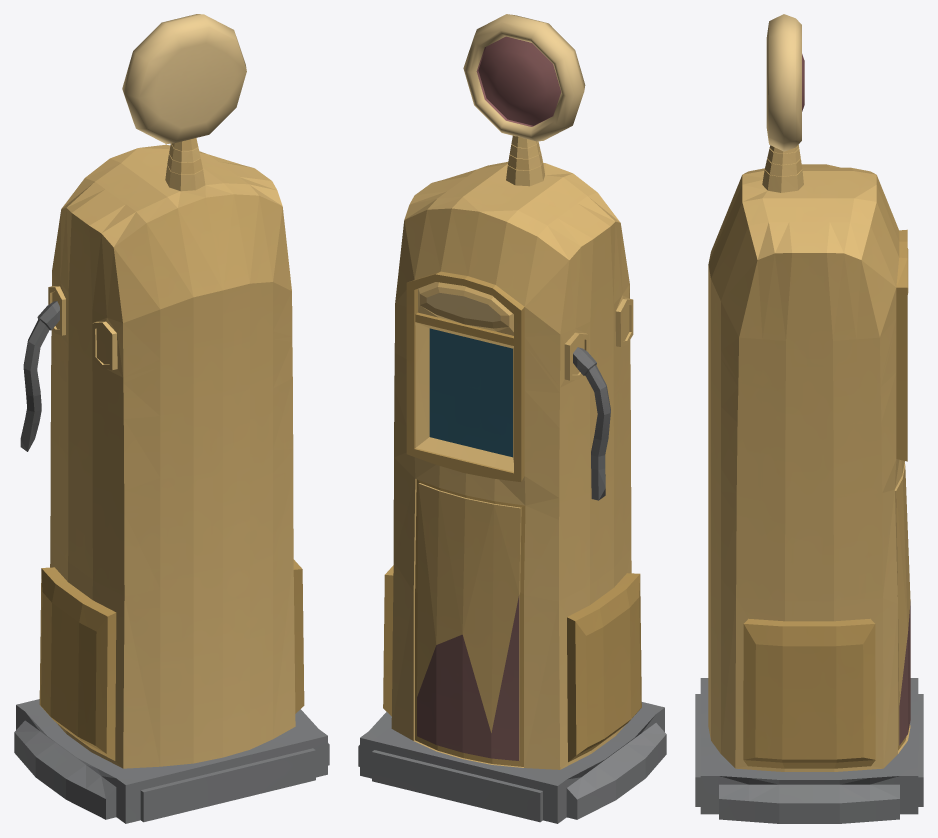
Rendered from gas_pump_B.obj.
3 renders of one model, left to right at view 1: azimuth 30°, elevation 25°; view 2: azimuth 150°, elevation 25°; view 3: azimuth 270°, elevation 25°, orthographic. The views are drawn at different scales.
Visible parts, largest first — view 1: gas_pump_B_body_Mesh, gas_pump_B_head_Mesh, gas_pump_B_hose_Mesh; view 2: gas_pump_B_body_Mesh, gas_pump_B_head_Mesh, gas_pump_B_hose_Mesh; view 3: gas_pump_B_body_Mesh, gas_pump_B_head_Mesh.
Boxes of the visible parts, x1,y1,x2,y2 form: gas_pump_B_body_Mesh: (14,138,329,823); gas_pump_B_head_Mesh: (122,14,246,144); gas_pump_B_hose_Mesh: (20,301,59,451); gas_pump_B_body_Mesh: (358,135,666,823); gas_pump_B_head_Mesh: (463,14,585,141); gas_pump_B_hose_Mesh: (573,347,610,500); gas_pump_B_body_Mesh: (695,145,923,823); gas_pump_B_head_Mesh: (766,14,804,151).
Bounding box in the file's own units: 0.929 × 2.71 × 0.7562.
